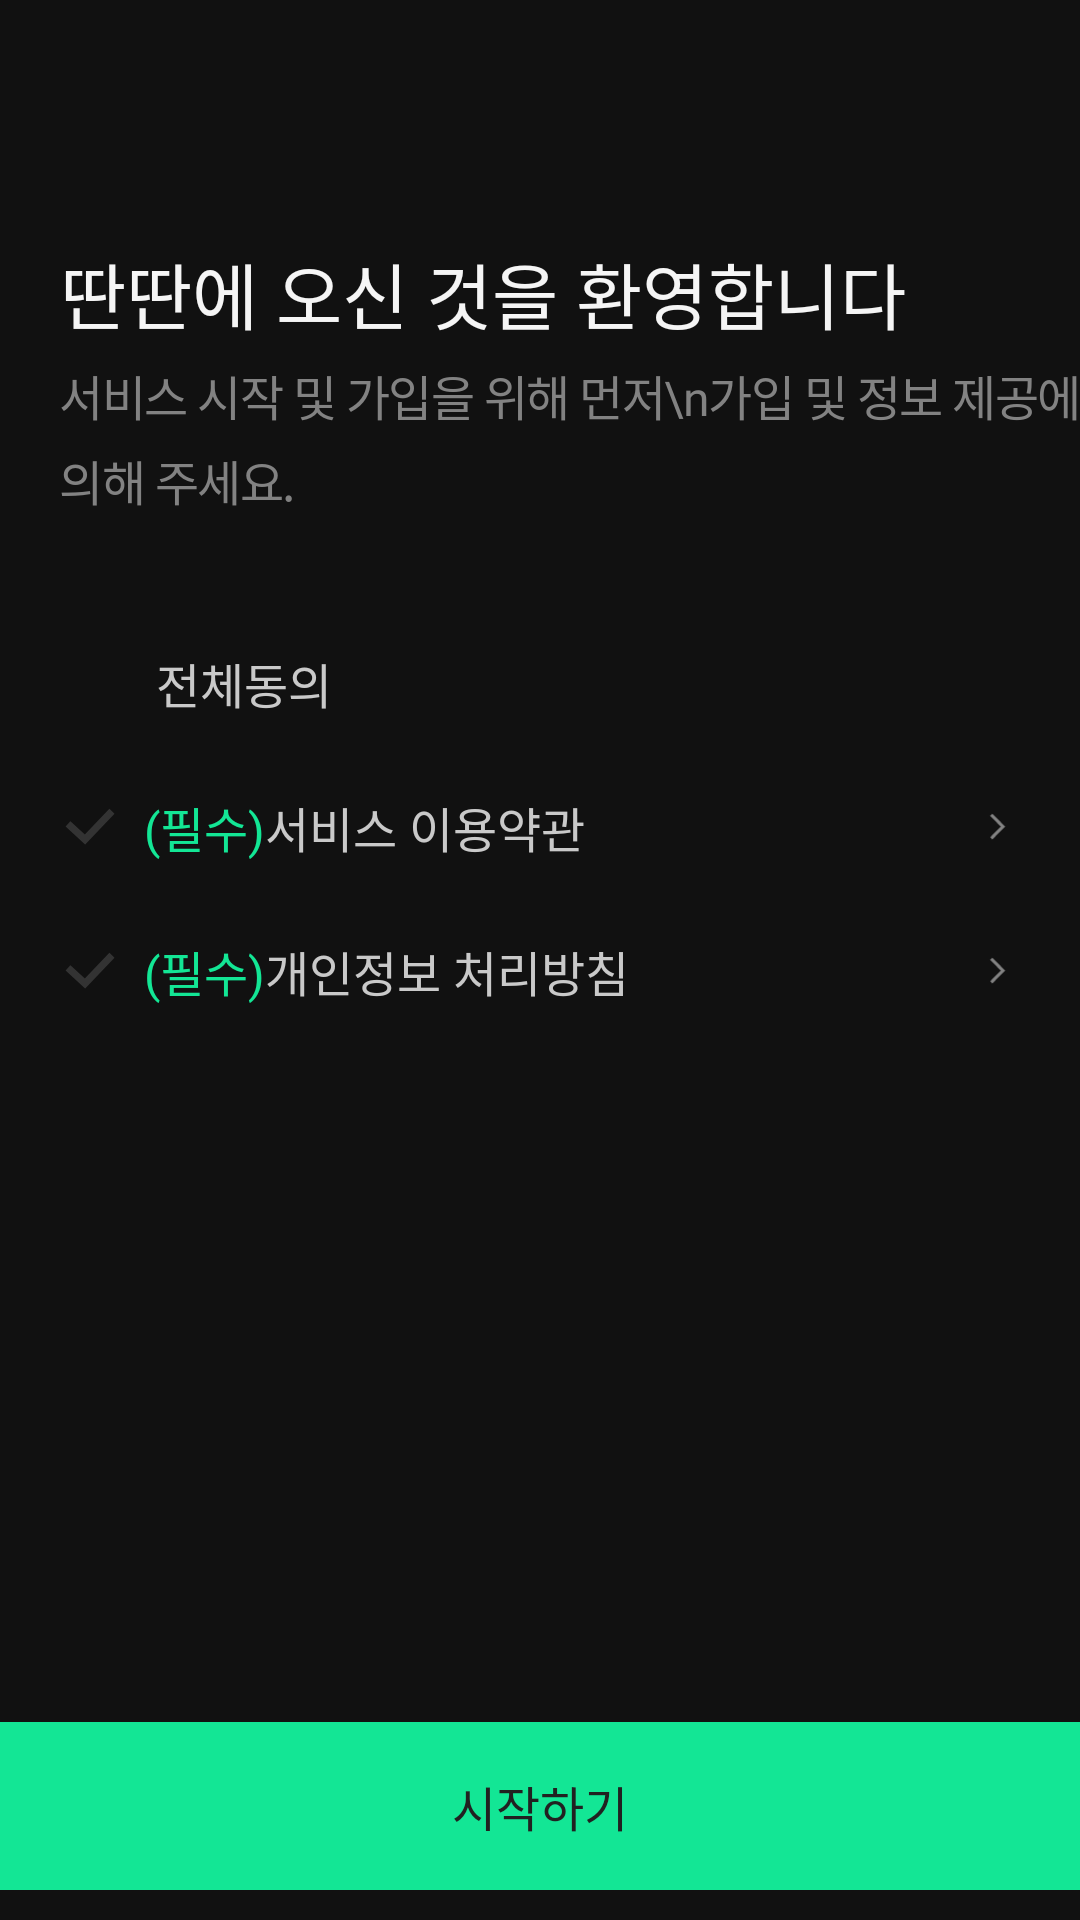

Icon bounding boxes for this 1080×1920 phone screenshot, format (x1, y1, x2, y2):
arrow right: (990, 814, 1005, 839), (990, 958, 1005, 983)
check: (66, 809, 114, 844), (66, 953, 114, 988)
